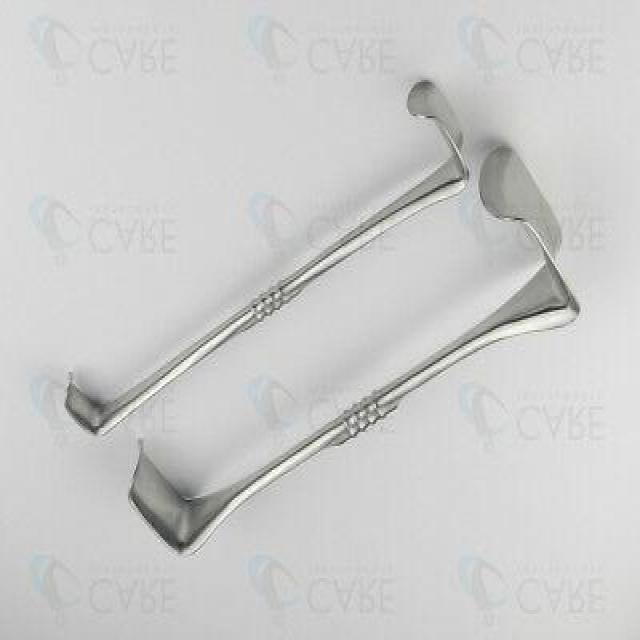Richardson: (125, 142, 584, 560), (62, 76, 477, 442)
